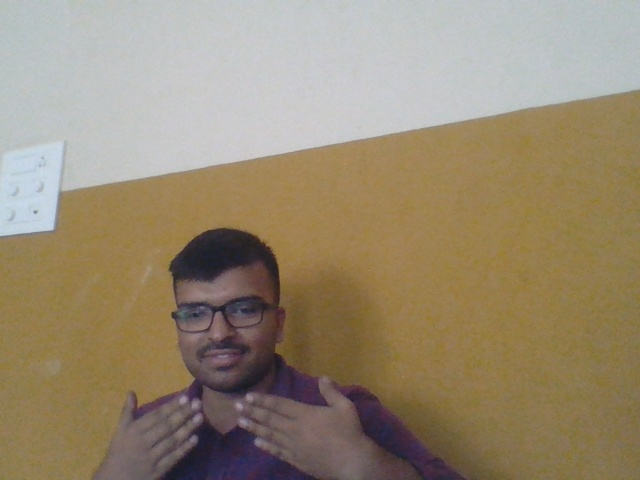Thank You: (91, 377, 382, 478)
